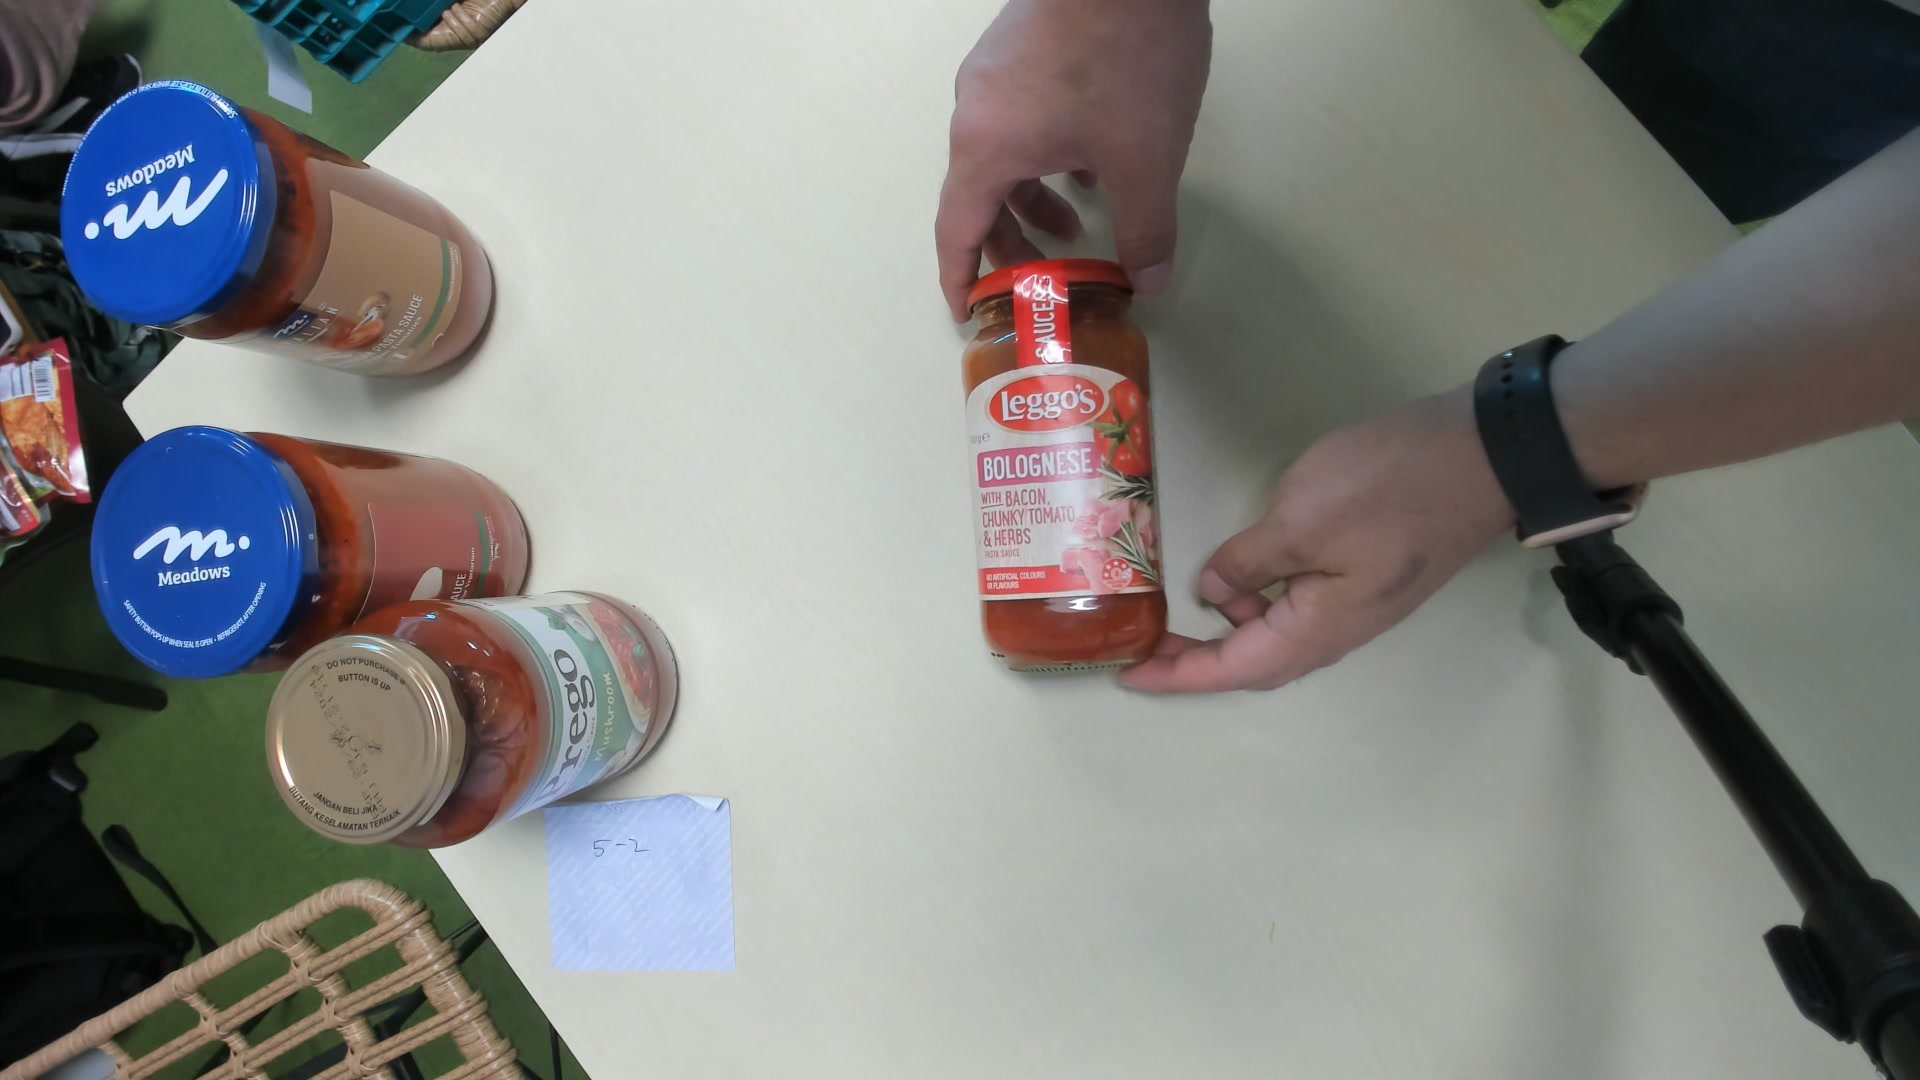PastaSauce_500-599g_Halal_NonHealthy: (965, 264, 1167, 675)
